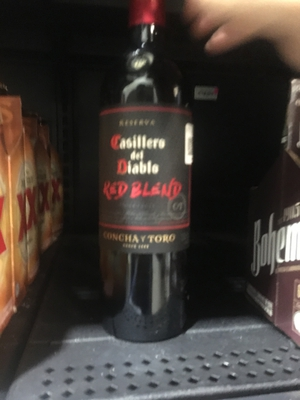casillero del diablo red blend: (93, 13, 205, 348)
